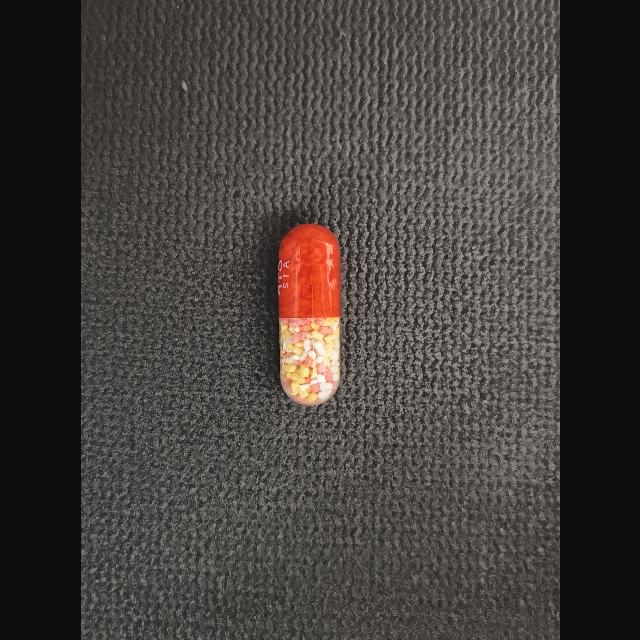Intact Capsule: (278, 224, 341, 406)
